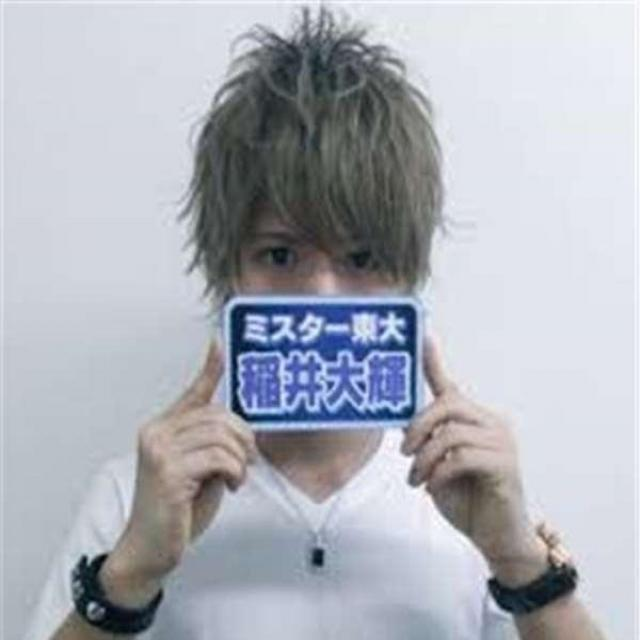nomask: (227, 157, 407, 410)
